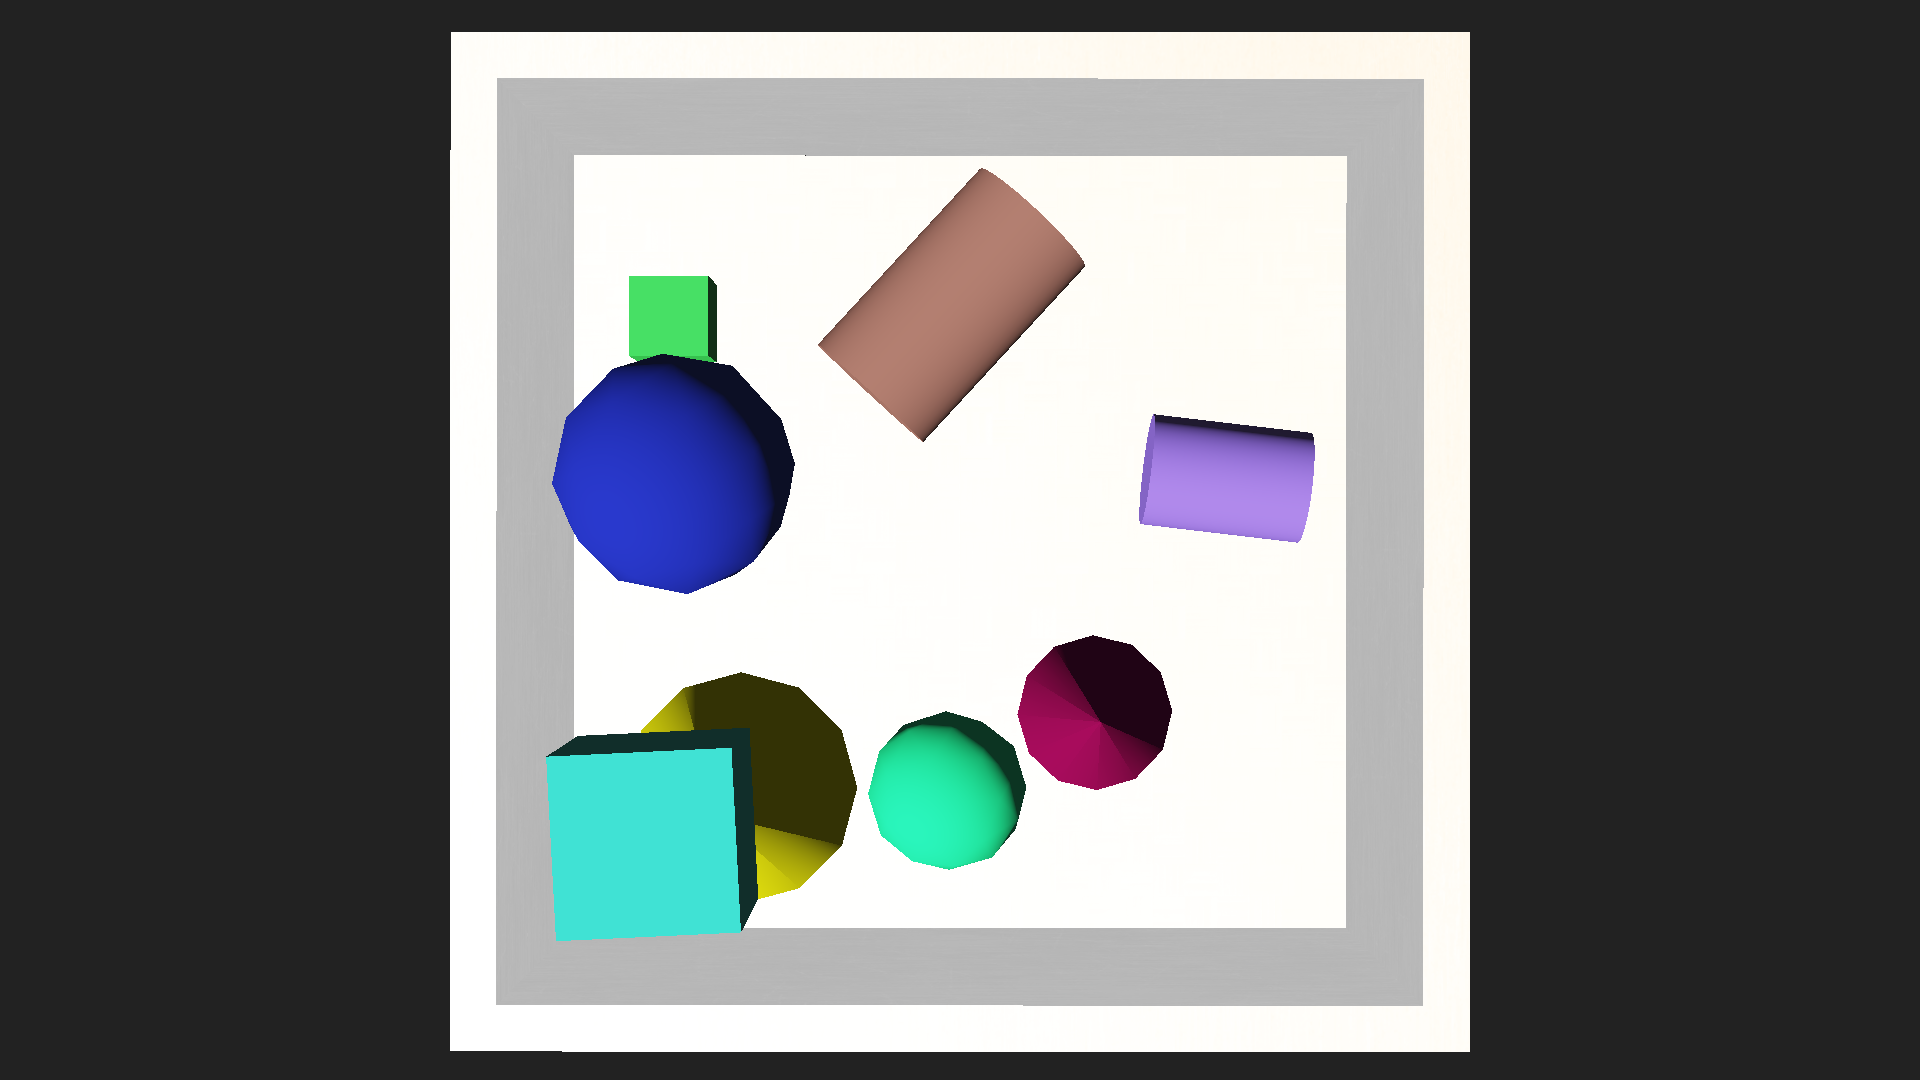3: (545, 727, 757, 942), (628, 276, 716, 363)
cone: (812, 157, 1088, 444), (1135, 410, 1319, 542)
cylinder: (1019, 637, 1180, 800)
sphere: (553, 352, 796, 595), (868, 711, 1026, 869)
